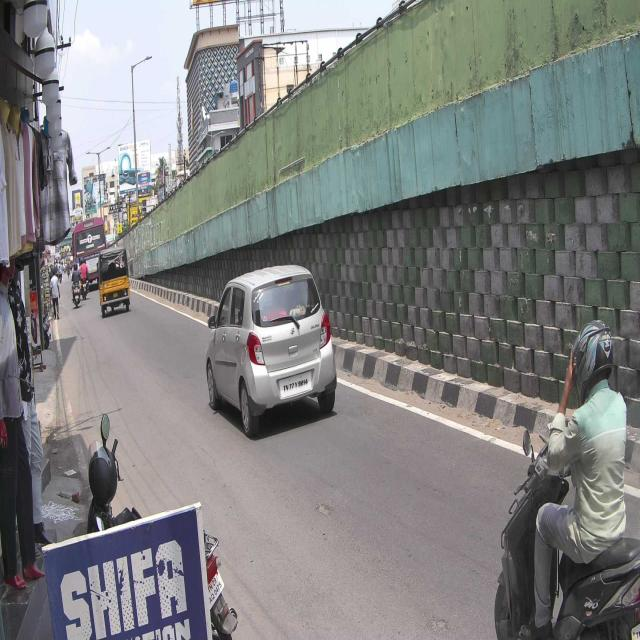single_rider: (491, 313, 640, 640)
